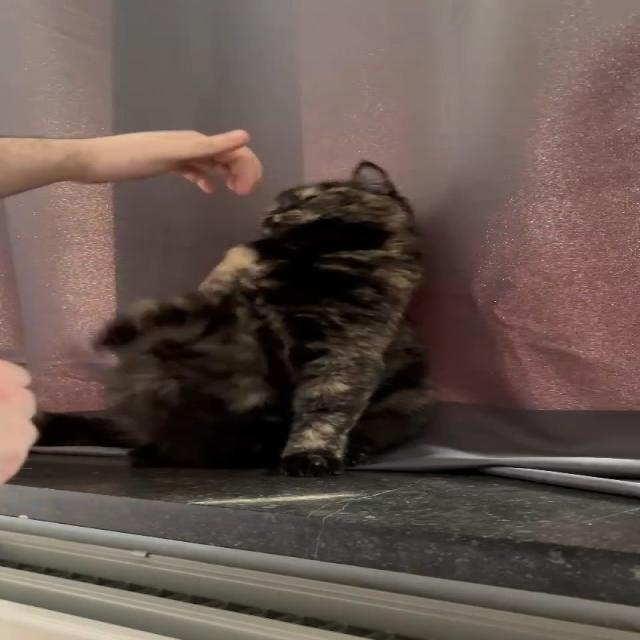authorized: (64, 158, 439, 478)
